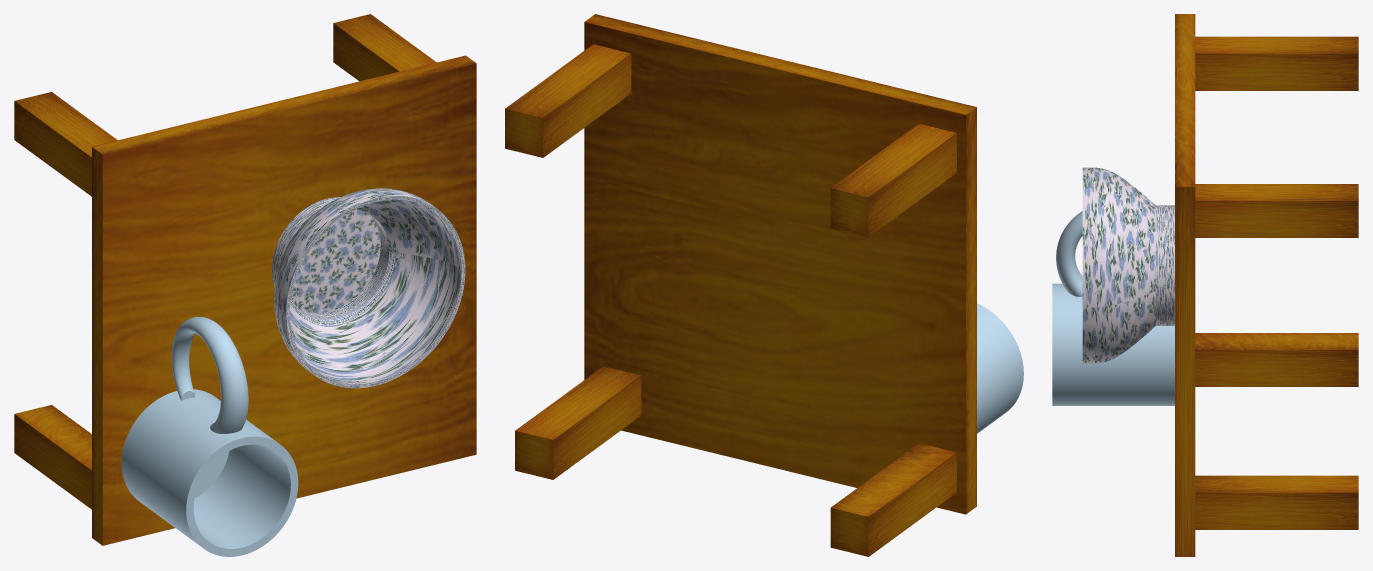
File: LuciaDurbin2.gltf
The picture shows the model from 3 angles, left to right: view 1: azimuth 30°, elevation 25°; view 2: azimuth 150°, elevation 25°; view 3: azimuth 270°, elevation 25°; orthographic projection. The views are drawn at different scales.
Parts seen in each view (by area): view 1: mesh23_mesh_4, mesh0_mesh_3, mesh16_mesh_1, mesh16_mesh_4, mesh0_mesh, mesh23_mesh_1, mesh23_mesh, mesh0_mesh_4, mesh12_mesh_1, mesh23_mesh_22, mesh23_mesh_12, mesh0_mesh_7 (+12 smaller); view 2: mesh23_mesh_5, mesh23_mesh_1, mesh23_mesh, mesh23_mesh_12, mesh23_mesh_18, mesh23_mesh_22, mesh23_mesh_7, mesh23_mesh_19, mesh23_mesh_23, mesh23_mesh_8, mesh23_mesh_13, mesh16_mesh_1 (+5 smaller); view 3: mesh0_mesh_7, mesh23_mesh_3, mesh23_mesh_16, mesh23_mesh_24, mesh23_mesh_9, mesh23_mesh_14, mesh16_mesh_1, mesh16_mesh_2, mesh0_mesh_8, mesh23_mesh, mesh23_mesh_19, mesh23_mesh_23 (+5 smaller).
Boxes of the visible parts, x1,y1,x2,y2 form: mesh23_mesh_4: (102,63,476,545); mesh0_mesh_3: (290,252,461,384); mesh16_mesh_1: (121,389,277,509); mesh16_mesh_4: (193,447,290,548); mesh0_mesh: (291,209,380,313); mesh23_mesh_1: (92,147,102,545); mesh23_mesh: (92,55,476,154); mesh0_mesh_4: (356,199,461,270); mesh12_mesh_1: (171,317,240,433); mesh23_mesh_22: (14,101,91,196); mesh23_mesh_12: (14,414,91,509); mesh0_mesh_7: (274,188,436,313); mesh23_mesh_5: (584,22,965,514); mesh23_mesh_1: (966,107,976,514); mesh23_mesh: (585,14,976,114); mesh23_mesh_12: (868,452,956,556); mesh23_mesh_18: (553,376,641,479); mesh23_mesh_22: (868,133,956,236); mesh23_mesh_7: (543,54,631,157); mesh23_mesh_19: (515,366,640,439); mesh23_mesh_23: (831,124,956,197); mesh23_mesh_8: (505,44,630,117); mesh23_mesh_13: (831,443,956,516); mesh16_mesh_1: (977,303,1023,407); mesh0_mesh_7: (1082,167,1155,307); mesh23_mesh_3: (1175,186,1195,556); mesh23_mesh_16: (1195,492,1358,529); mesh23_mesh_24: (1195,53,1358,90); mesh23_mesh_9: (1195,201,1358,237); mesh23_mesh_14: (1195,350,1358,386); mesh16_mesh_1: (1052,283,1174,370); mesh16_mesh_2: (1052,370,1174,405); mesh0_mesh_8: (1082,291,1155,363); mesh23_mesh: (1175,14,1195,186); mesh23_mesh_19: (1195,475,1358,492); mesh23_mesh_23: (1195,36,1358,53).
Size of the model in its own units: 0.254 by 0.254 by 0.1905.
3 materials, 2 textured.
